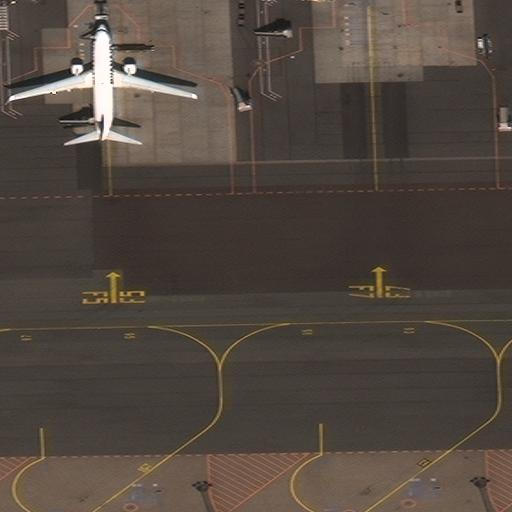Medium Civil Transport: (8, 21, 197, 143)
